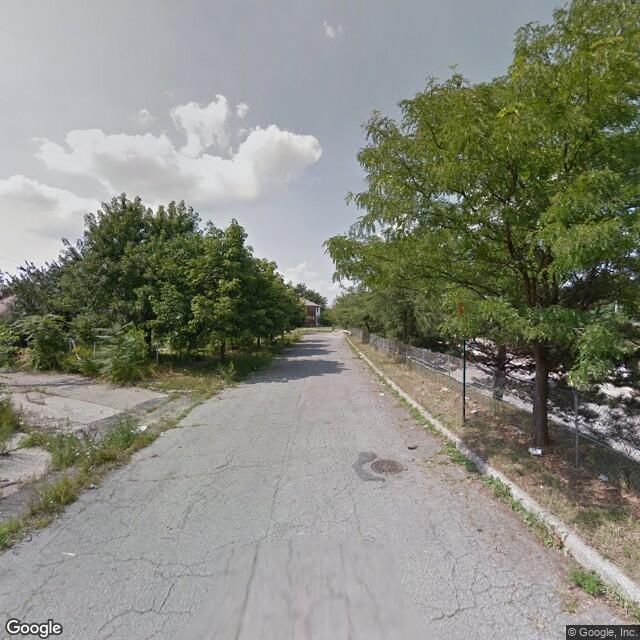litter: (597, 466, 611, 483), (134, 423, 149, 438), (529, 445, 543, 458), (434, 386, 450, 395), (82, 483, 100, 490), (466, 408, 479, 417)
